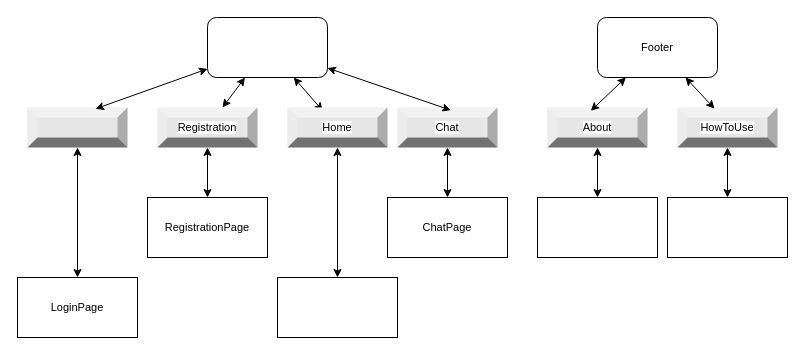
Image size: 805x355. Some labels were removed from this diagram. The shapes that lost their labels are listed below. From the top down, each one's centre as x and y in pixels, then its label:
At (267,47): "Navbar".
At (77,127): "Login".
At (597,227): "AboutPage".
At (727,227): "HowToUsePage".
At (337,307): "HomePage".
